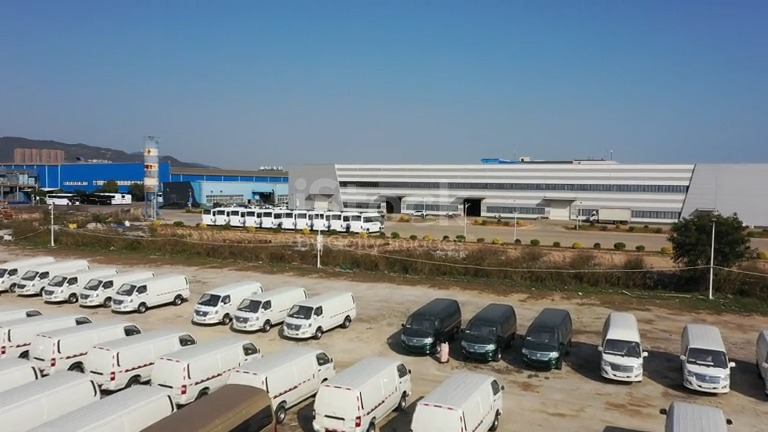car: (229, 347, 335, 422), (312, 357, 411, 431), (151, 338, 260, 405), (85, 330, 196, 390), (29, 322, 141, 374), (410, 371, 504, 431), (0, 314, 91, 358), (678, 324, 735, 392), (596, 311, 647, 381), (282, 292, 356, 338), (231, 287, 307, 331), (401, 298, 461, 353), (0, 259, 90, 295), (461, 304, 516, 361), (522, 308, 572, 369), (193, 281, 262, 325), (113, 274, 189, 313), (77, 270, 154, 306), (41, 267, 118, 302), (0, 256, 54, 292)
